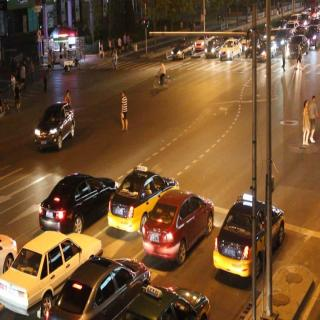Car: (0, 225, 104, 315), (50, 257, 156, 320), (212, 198, 293, 280), (100, 162, 170, 228), (149, 184, 212, 255), (40, 177, 115, 232), (117, 284, 216, 320), (35, 91, 78, 151), (217, 32, 247, 69), (256, 34, 284, 66), (165, 35, 194, 63), (0, 227, 19, 267), (286, 34, 311, 63), (204, 35, 224, 62), (193, 32, 210, 54), (307, 24, 320, 50)
